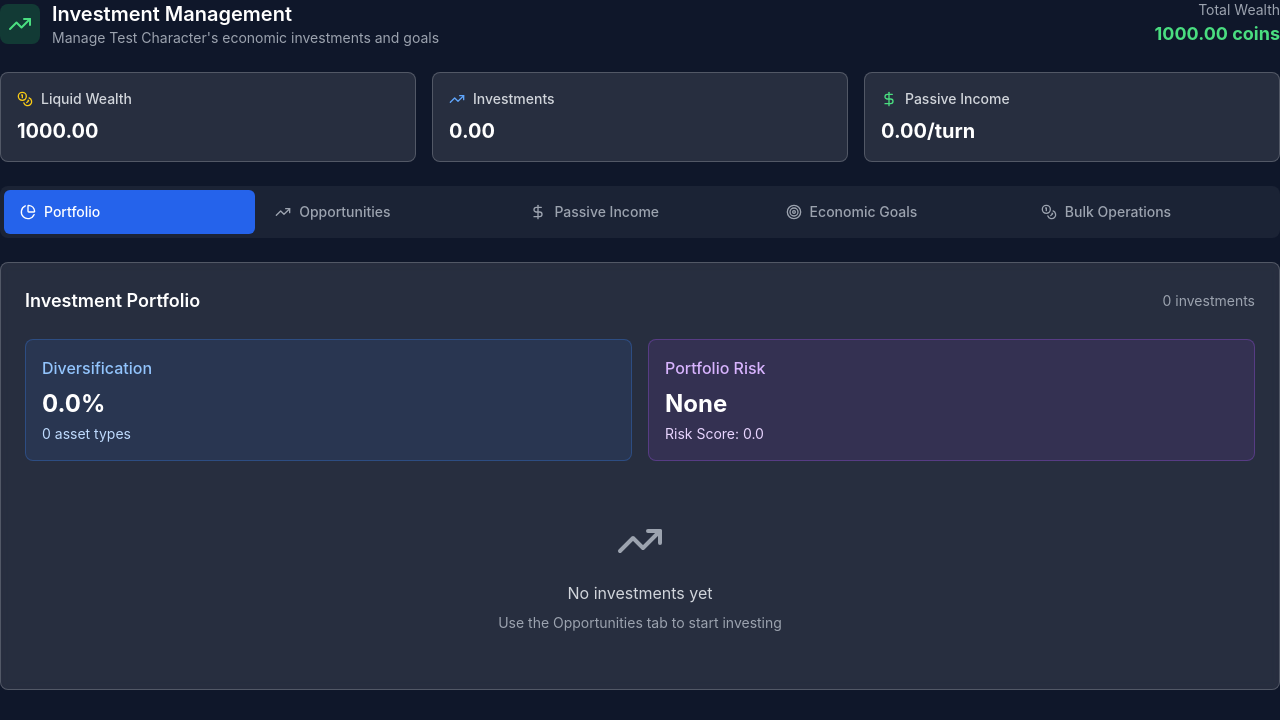
Test: InvestmentEditor Integration Tests › Passive Income Tab › displays passive income information
What coordinates should you click on to do the following:
click the button "Passive Income"
I would click on:
 (640, 212)
Its box is [514,190,766,234].
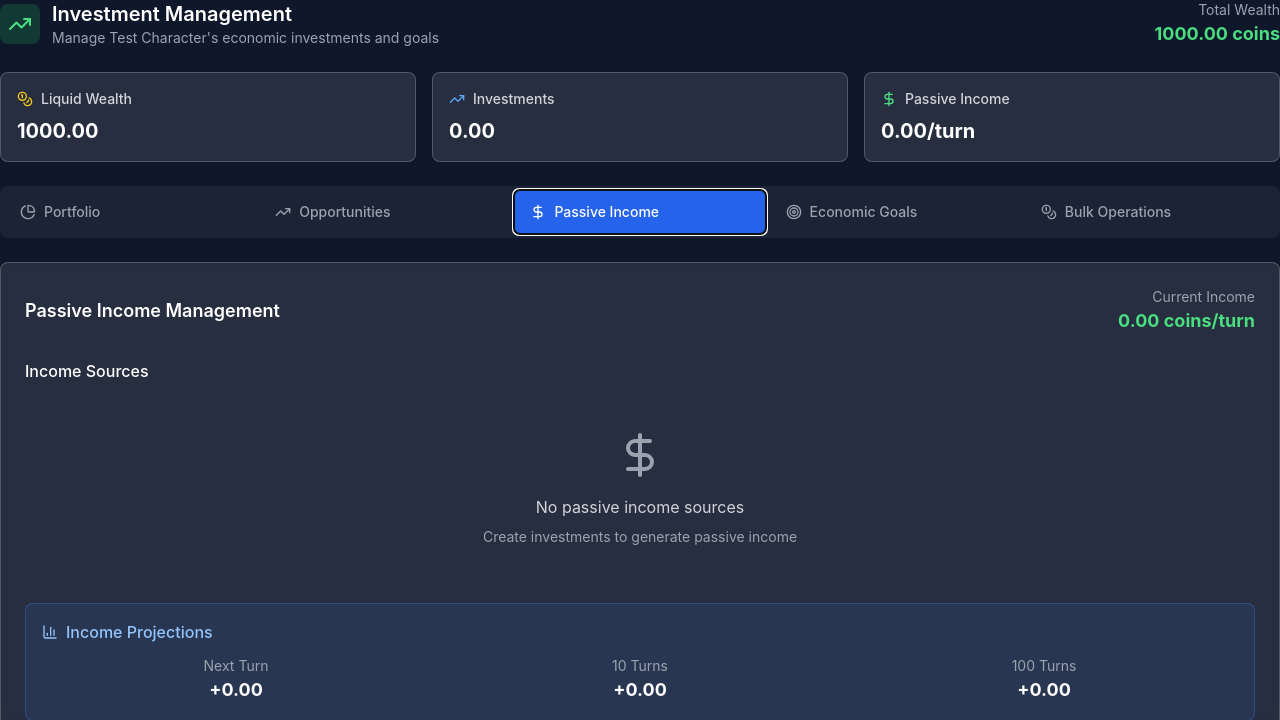
Check: the heading "Passive Income Management" is shown, box [25,297,280,325]
Check: the text "No passive income sources" is shown, box [536,497,744,517]
